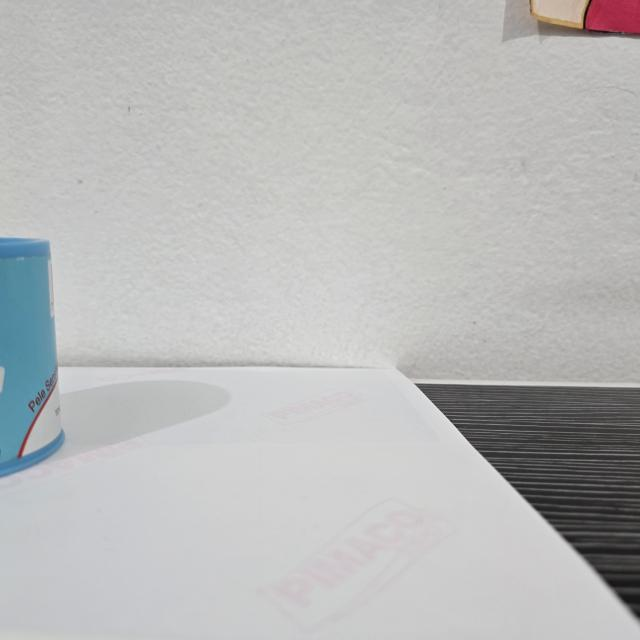procitex: (0, 238, 72, 482)
